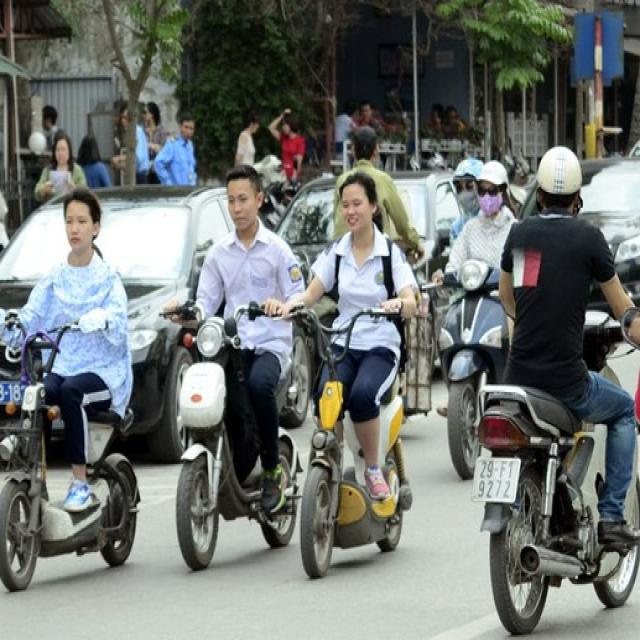no_helmet: (220, 160, 268, 233), (332, 170, 386, 233), (59, 183, 103, 252)
